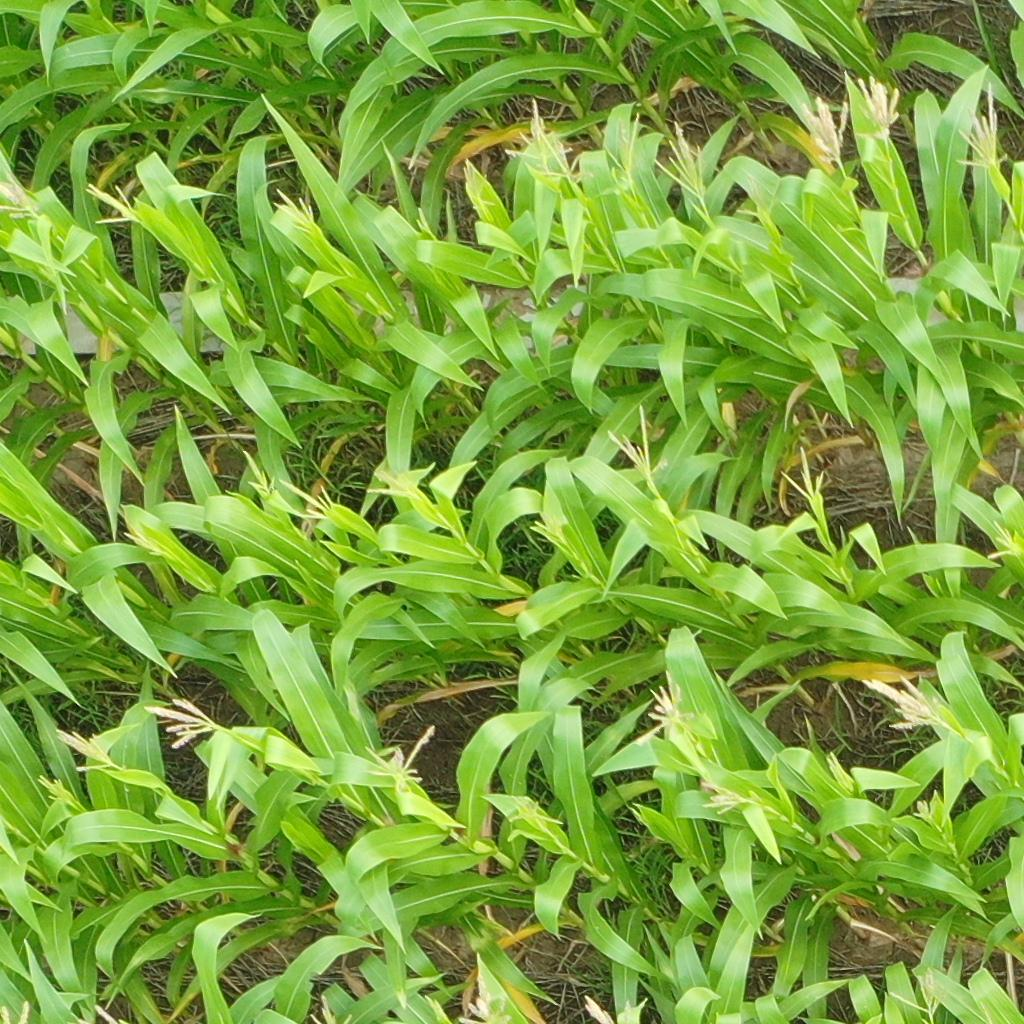Tassel: (360, 721, 435, 797), (853, 673, 946, 732), (638, 669, 701, 748), (956, 80, 1009, 173), (604, 404, 665, 480), (652, 119, 710, 198), (143, 693, 215, 749), (503, 97, 563, 162), (797, 95, 851, 164), (882, 966, 942, 1024), (596, 108, 642, 183), (455, 971, 513, 1024), (52, 729, 116, 776), (535, 127, 589, 182), (80, 177, 141, 225), (858, 77, 902, 143), (1, 147, 37, 218), (779, 447, 828, 499), (269, 186, 319, 236), (279, 477, 334, 521), (505, 790, 564, 830), (580, 989, 647, 1024), (701, 778, 751, 821), (241, 446, 280, 498), (526, 509, 573, 551), (121, 517, 165, 561), (367, 463, 417, 500), (459, 157, 494, 209), (986, 516, 1022, 561), (307, 993, 353, 1024), (824, 748, 856, 792), (34, 773, 74, 806), (90, 1002, 129, 1024), (912, 795, 942, 822), (424, 992, 448, 1024), (1, 1001, 30, 1024)
